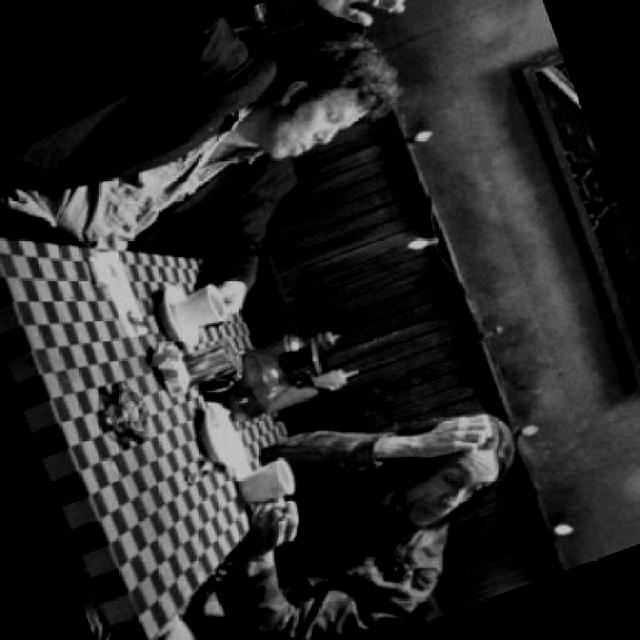cigarette: (380, 0, 433, 12)
